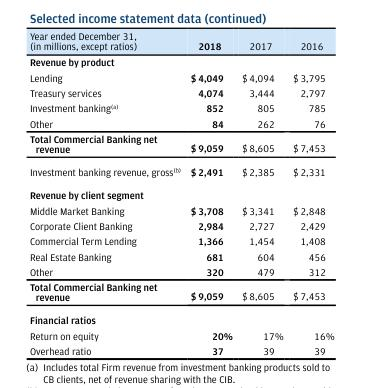table: (28, 28, 334, 356)
table column: (28, 28, 184, 356), (184, 28, 236, 356), (236, 28, 287, 356), (287, 28, 334, 356)
table column header: (28, 28, 334, 53)
table projected row header: (28, 183, 334, 202), (28, 308, 334, 327), (28, 53, 334, 69)
table row: (28, 130, 334, 160), (28, 278, 334, 308), (28, 28, 334, 53), (28, 160, 334, 183), (28, 183, 334, 202), (28, 308, 334, 327), (28, 53, 334, 69), (28, 84, 334, 100), (28, 232, 334, 248), (28, 69, 334, 84), (28, 100, 334, 115), (28, 115, 334, 130), (28, 202, 334, 217), (28, 217, 334, 232), (28, 248, 334, 263), (28, 263, 334, 278), (28, 327, 334, 342), (28, 342, 334, 356)
